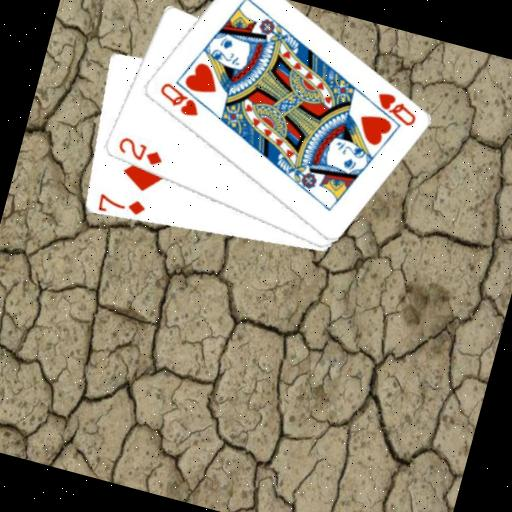2D: (112, 132, 167, 168)
7D: (93, 187, 149, 221)
QH: (358, 84, 422, 133), (151, 77, 205, 120)
